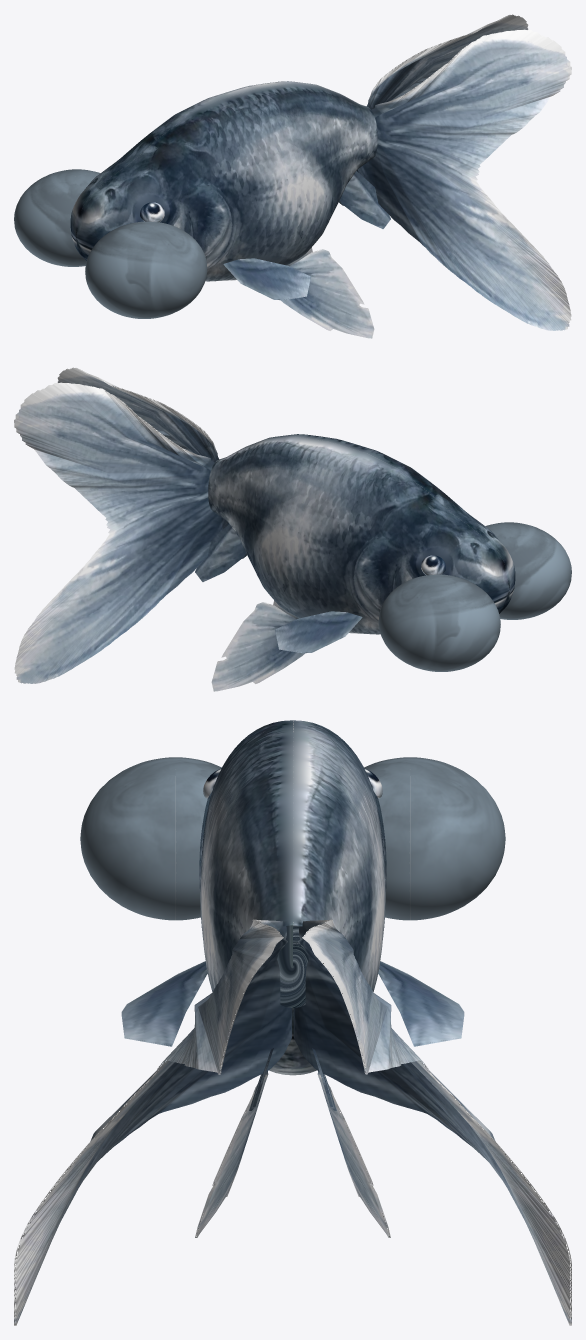
File: gin-suihogan.glb
3 renders of one model, top to bottom at view 1: azimuth 30°, elevation 25°; view 2: azimuth 150°, elevation 25°; view 3: azimuth 270°, elevation 25°, orthographic. The views are drawn at different scales.
Parts seen in each view (by area): view 1: body, caudal_near, sac_near, sac_far, pelvic_near, caudal_far, pectoral_near, gill_near, anal_near, eye_near; view 2: body, caudal_far, sac_far, sac_near, pelvic_far, caudal_near, pectoral_far, gill_far, anal_far, eye_far; view 3: body, caudal_near, caudal_far, sac_near, sac_far, pectoral_near, pectoral_far, pelvic_near, pelvic_far.
Part boxes in pixels (x1=…): body: x1=70, y1=81, x2=377, y2=281; caudal_near: x1=358, y1=29, x2=571, y2=330; sac_near: x1=85, y1=221, x2=207, y2=318; sac_far: x1=14, y1=169, x2=100, y2=266; pelvic_near: x1=281, y1=249, x2=374, y2=338; caudal_far: x1=357, y1=14, x2=528, y2=173; pectoral_near: x1=223, y1=258, x2=310, y2=300; gill_near: x1=199, y1=185, x2=232, y2=268; anal_near: x1=340, y1=171, x2=390, y2=228; eye_near: x1=140, y1=202, x2=164, y2=222; body: x1=208, y1=434, x2=515, y2=634; caudal_far: x1=14, y1=382, x2=227, y2=683; sac_far: x1=378, y1=574, x2=500, y2=671; sac_near: x1=485, y1=522, x2=571, y2=619; pelvic_far: x1=211, y1=602, x2=304, y2=691; caudal_near: x1=57, y1=367, x2=228, y2=526; pectoral_far: x1=275, y1=611, x2=362, y2=653; gill_far: x1=353, y1=538, x2=386, y2=621; anal_far: x1=195, y1=524, x2=245, y2=581; eye_far: x1=421, y1=555, x2=445, y2=575; body: x1=200, y1=720, x2=385, y2=1075; caudal_near: x1=14, y1=919, x2=291, y2=1325; caudal_far: x1=294, y1=919, x2=571, y2=1325; sac_near: x1=80, y1=757, x2=221, y2=920; sac_far: x1=364, y1=757, x2=505, y2=920; pectoral_near: x1=121, y1=961, x2=207, y2=1046; pectoral_far: x1=378, y1=961, x2=464, y2=1046; pelvic_near: x1=195, y1=1071, x2=268, y2=1237; pelvic_far: x1=317, y1=1071, x2=390, y2=1237.
Size of the model in its own units: 0.15 by 0.073 by 0.0891.
1 material, 1 textured.
